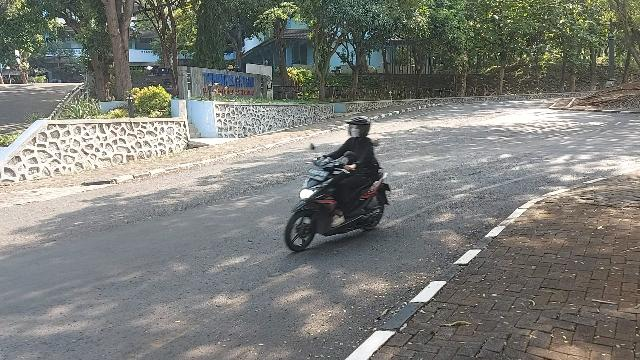helm: (348, 117, 371, 139)
motor: (286, 144, 392, 253)
